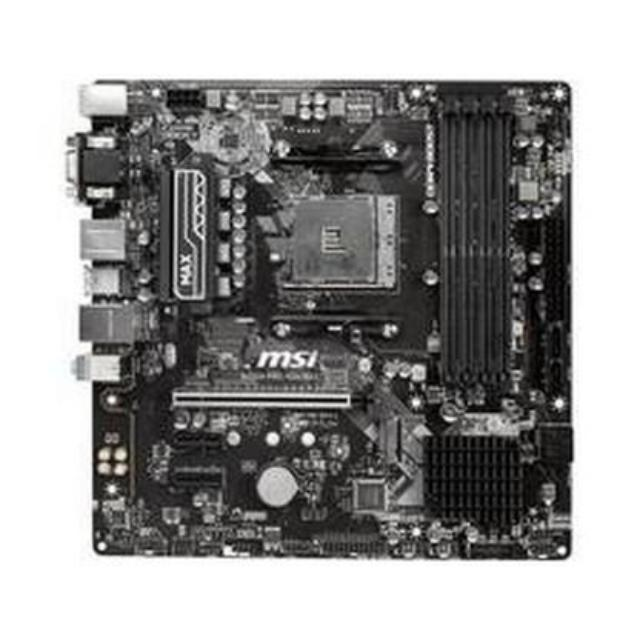Mainboard: (62, 63, 594, 572)
